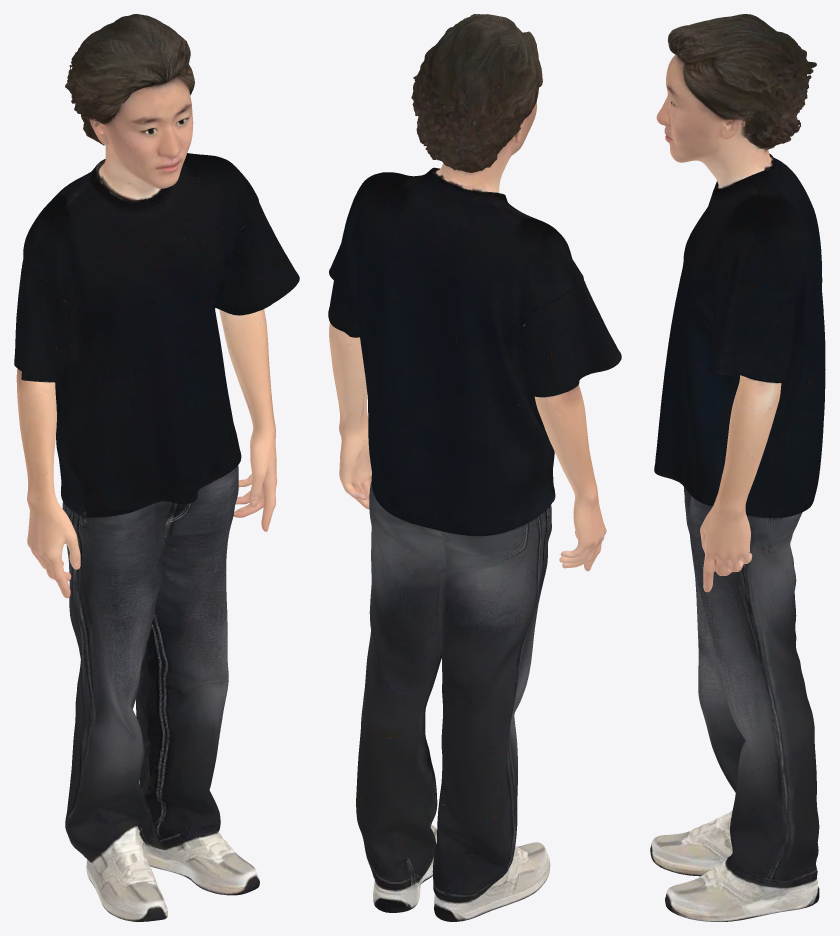
Rendered from tins.glb.
3 views of the same model, side by side, from view 1: azimuth 30°, elevation 25°; view 2: azimuth 150°, elevation 25°; view 3: azimuth 270°, elevation 25° (orthographic).
Size of the model in its own units: 0.6428 by 1.9 by 0.3493.
Materials: 1 (1 with a texture image).
